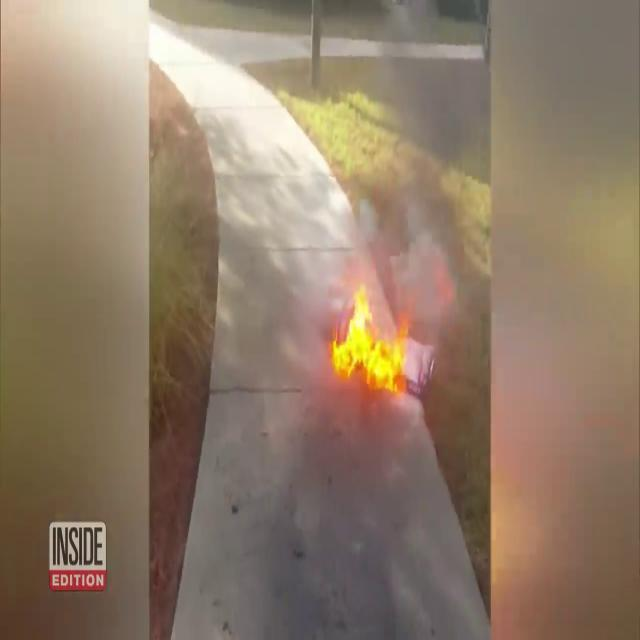Fire: (326, 274, 419, 396)
Smoke: (343, 16, 491, 304)
